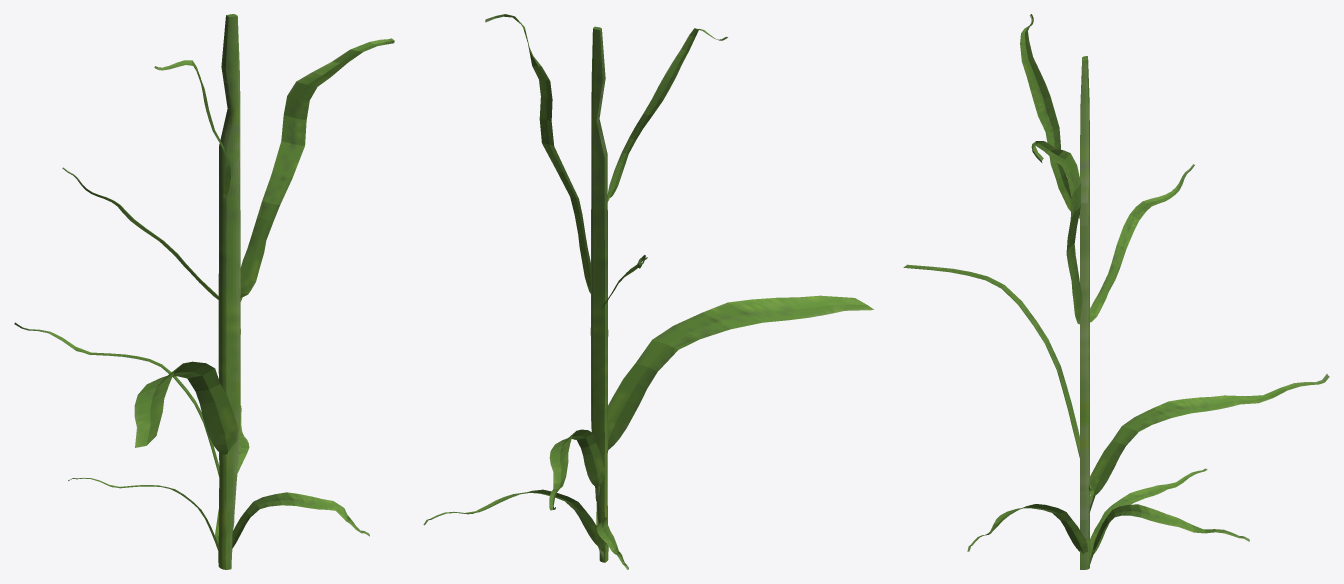
The picture shows the model from 3 angles, left to right: view 1: azimuth 30°, elevation 25°; view 2: azimuth 150°, elevation 25°; view 3: azimuth 270°, elevation 25°; orthographic projection. The views are drawn at different scales.
Parts seen in each view (by area): view 1: g2; view 2: g2; view 3: g2.
Boxes of the visible parts, box(x1,y1,x2,y2) form: g2: box(14, 14, 394, 569); g2: box(423, 14, 873, 569); g2: box(903, 14, 1329, 569).
Size of the model in its own units: 0.3064 by 0.486 by 0.3661.
Materials: 1 (1 with a texture image).
